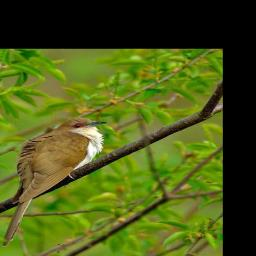Cuckoo: (0, 118, 109, 247)
